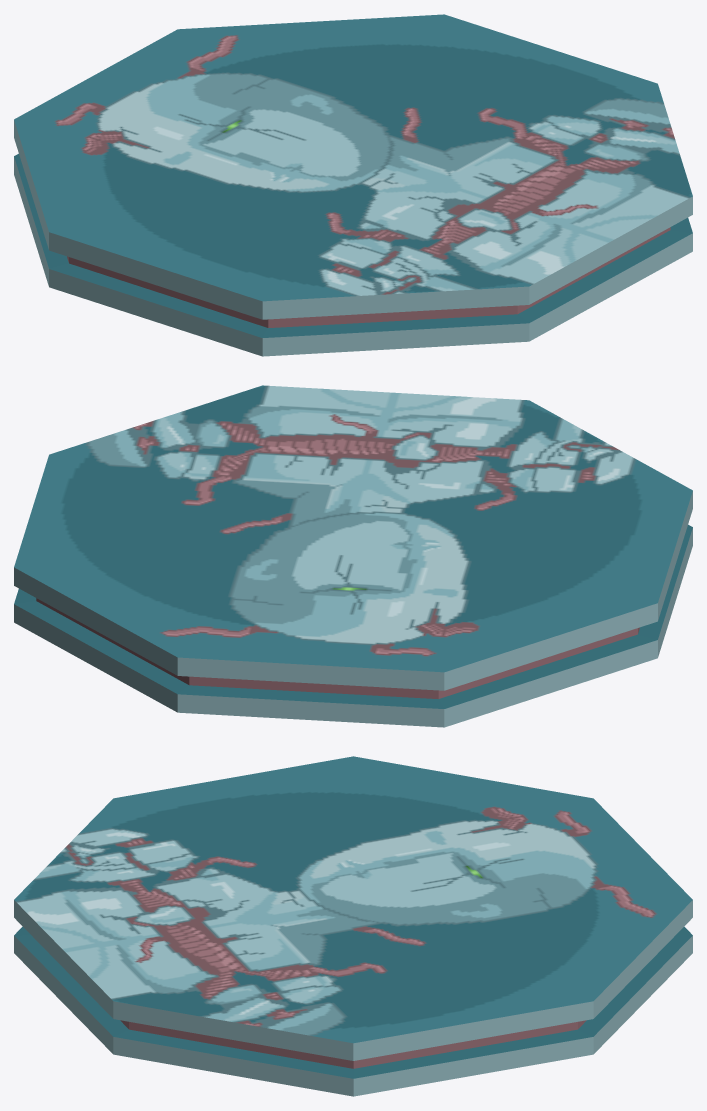
The model's file is Sullied Statue Coin.fbx.
The picture shows the model from 3 angles, top to bottom: view 1: azimuth 30°, elevation 25°; view 2: azimuth 150°, elevation 25°; view 3: azimuth 270°, elevation 25°; orthographic projection. The views are drawn at different scales.
Parts seen in each view (by area): view 1: (Cyan) Sullied Statue Coin; view 2: (Cyan) Sullied Statue Coin; view 3: (Cyan) Sullied Statue Coin.
Boxes of the visible parts, <box> form: (Cyan) Sullied Statue Coin: <box>14,14,692,356</box>; (Cyan) Sullied Statue Coin: <box>14,385,692,727</box>; (Cyan) Sullied Statue Coin: <box>14,756,692,1096</box>.
Size of the model in its own units: 183 by 15.83 by 183.
